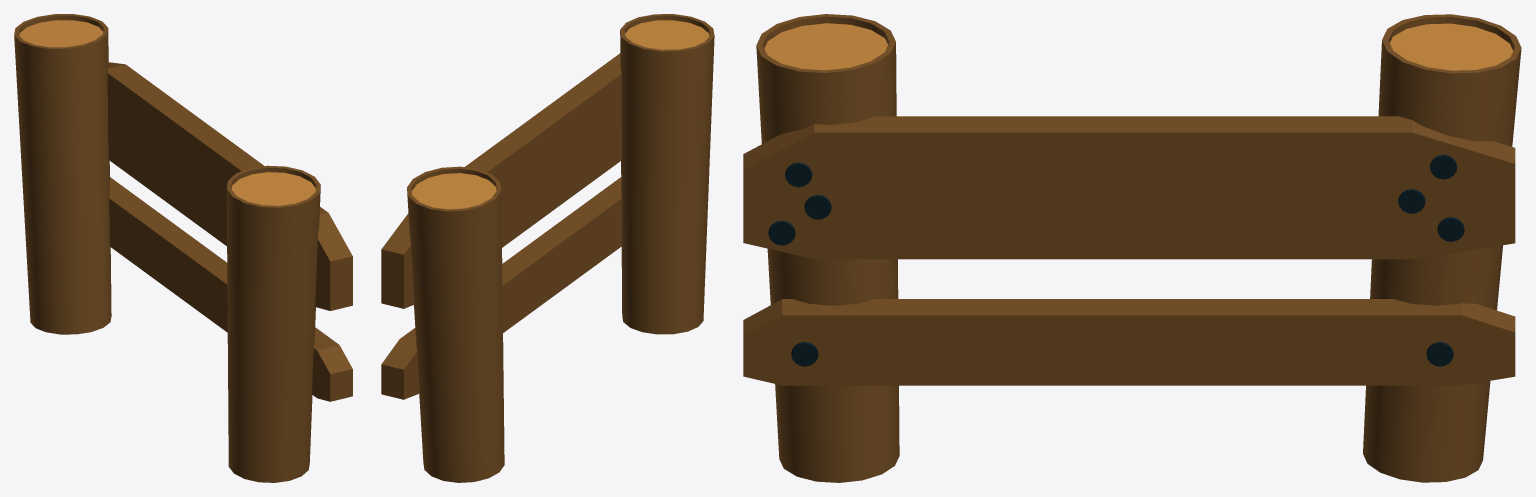
Rendered from fence.glb.
The picture shows the model from 3 angles, left to right: view 1: azimuth 30°, elevation 25°; view 2: azimuth 150°, elevation 25°; view 3: azimuth 270°, elevation 25°; orthographic projection. The views are drawn at different scales.
Parts seen in each view (by area): view 1: Cylinder.002; view 2: Cylinder.002; view 3: Cylinder.002.
Boxes of the visible parts, x1,y1,x2,y2 form: Cylinder.002: [14, 14, 352, 482]; Cylinder.002: [381, 14, 714, 482]; Cylinder.002: [743, 14, 1521, 482].
Size of the model in its own units: 2.27 by 6.64 by 11.13.
Materials: 1 (1 with a texture image).
